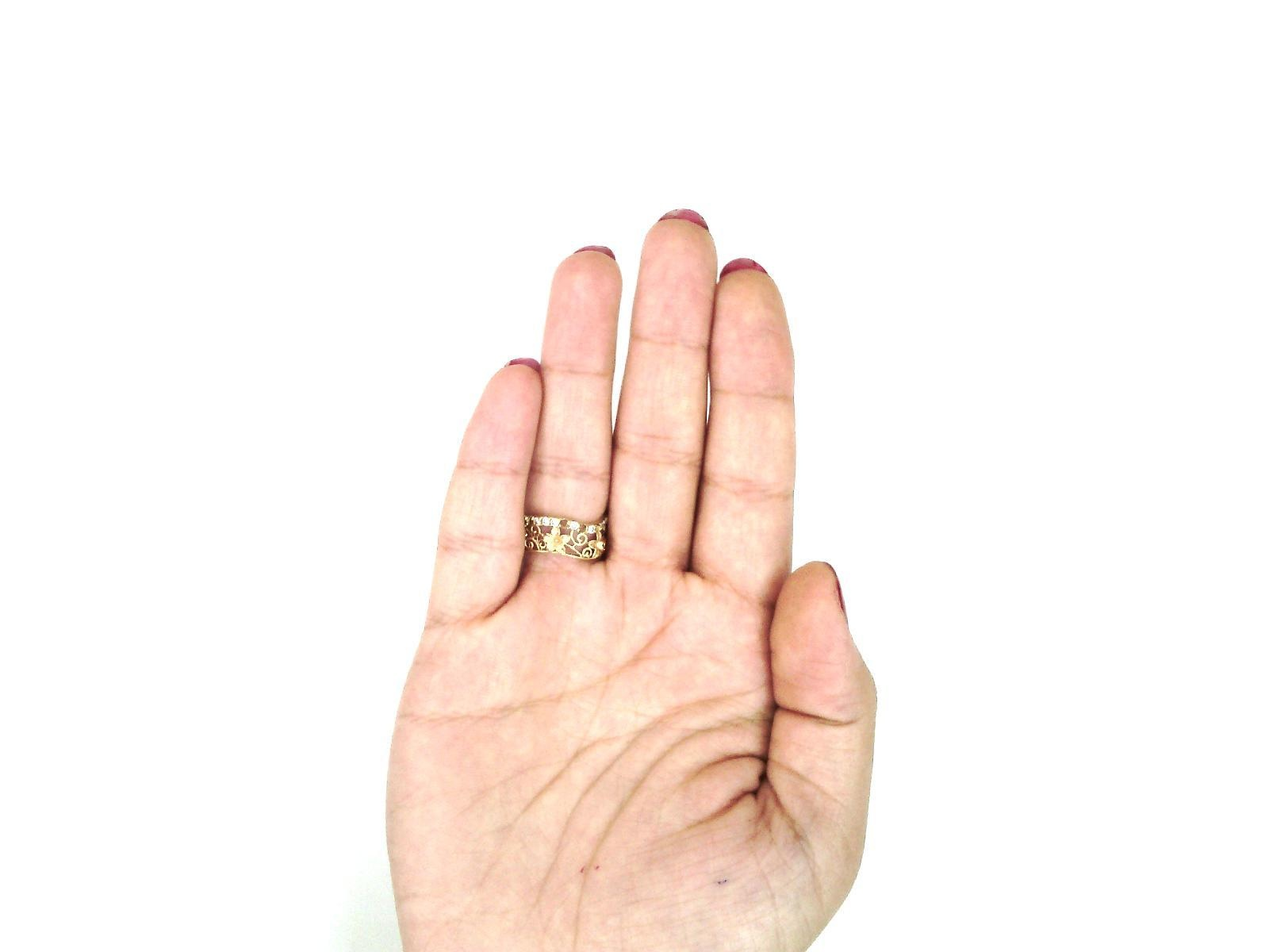open_palm: (382, 208, 881, 951)
